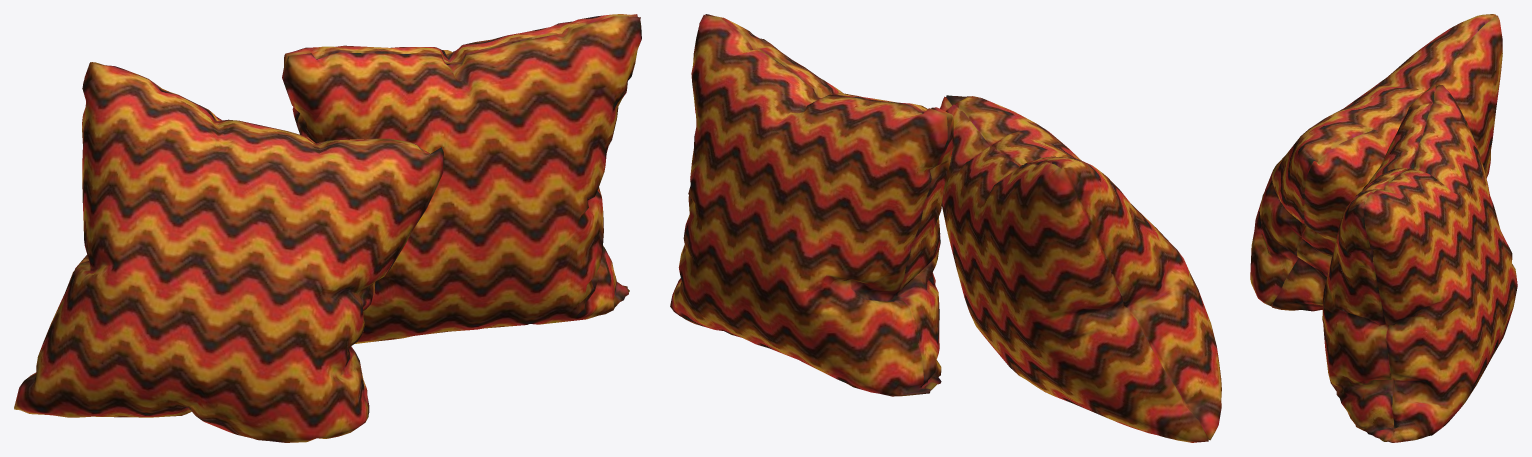
Rendered from pillows.glb.
3 views of the same model, side by side, from view 1: azimuth 30°, elevation 25°; view 2: azimuth 150°, elevation 25°; view 3: azimuth 270°, elevation 25° (orthographic). The views are drawn at different scales.
Visible parts, largest first — view 1: throw_pillows_01_pillow01, throw_pillows_01_pillow02; view 2: throw_pillows_01_pillow02, throw_pillows_01_pillow01; view 3: throw_pillows_01_pillow02, throw_pillows_01_pillow01.
Boxes of the visible parts, left/top/right/bottom form: throw_pillows_01_pillow01: left=14, top=62, right=443, bottom=442; throw_pillows_01_pillow02: left=282, top=14, right=641, bottom=343; throw_pillows_01_pillow02: left=670, top=14, right=953, bottom=396; throw_pillows_01_pillow01: left=940, top=95, right=1221, bottom=442; throw_pillows_01_pillow02: left=1322, top=84, right=1517, bottom=442; throw_pillows_01_pillow01: left=1250, top=14, right=1502, bottom=311.
Size of the model in its own units: 0.9401 by 0.4502 by 0.4519.
1 material, 1 textured.
